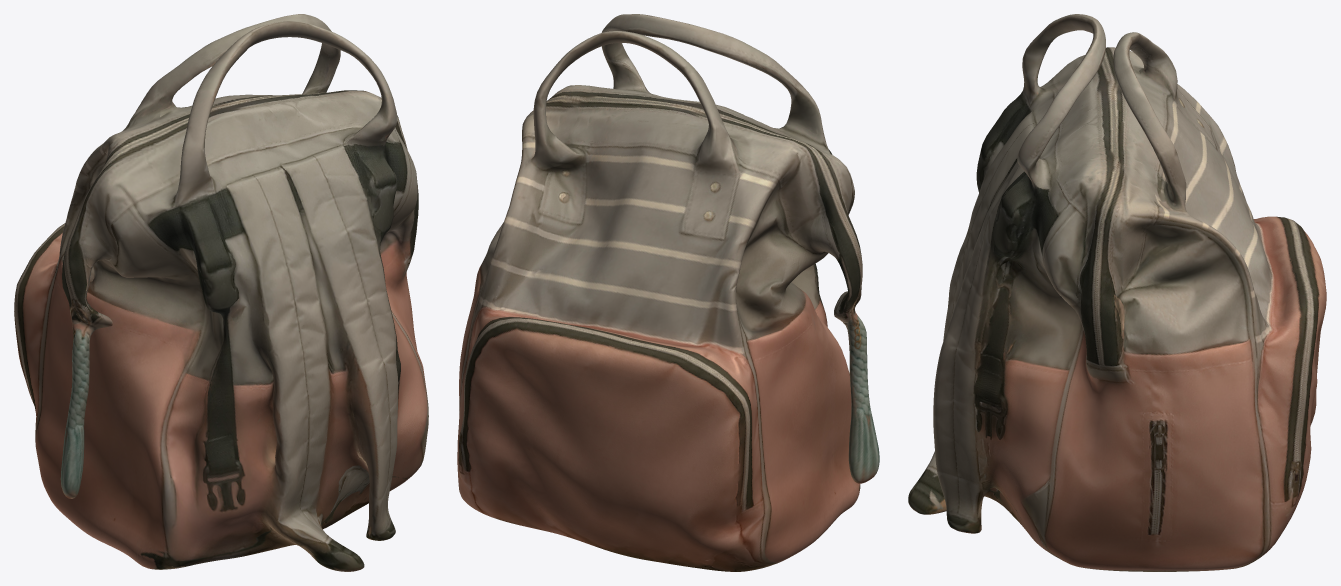
The model's file is backpack_photoscan.glb.
The picture shows the model from 3 angles, left to right: view 1: azimuth 30°, elevation 25°; view 2: azimuth 150°, elevation 25°; view 3: azimuth 270°, elevation 25°; orthographic projection. The views are drawn at different scales.
Parts seen in each view (by area): view 1: Object_2; view 2: Object_2; view 3: Object_2.
Part boxes in pixels (x1,y1,x2,y2): Object_2: (14, 14, 428, 571); Object_2: (457, 14, 879, 571); Object_2: (908, 14, 1326, 571).
Bounding box in the file's own units: 0.3559 × 0.4468 × 0.3449.
1 material, 1 textured.
